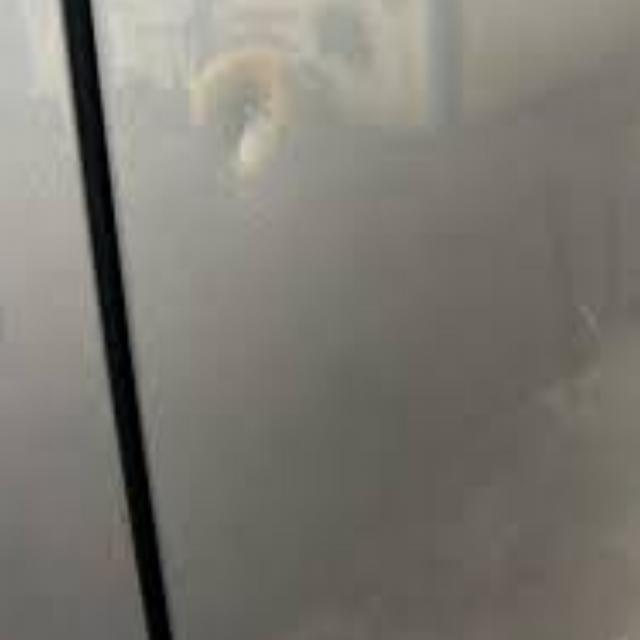dents: (186, 54, 315, 212)
